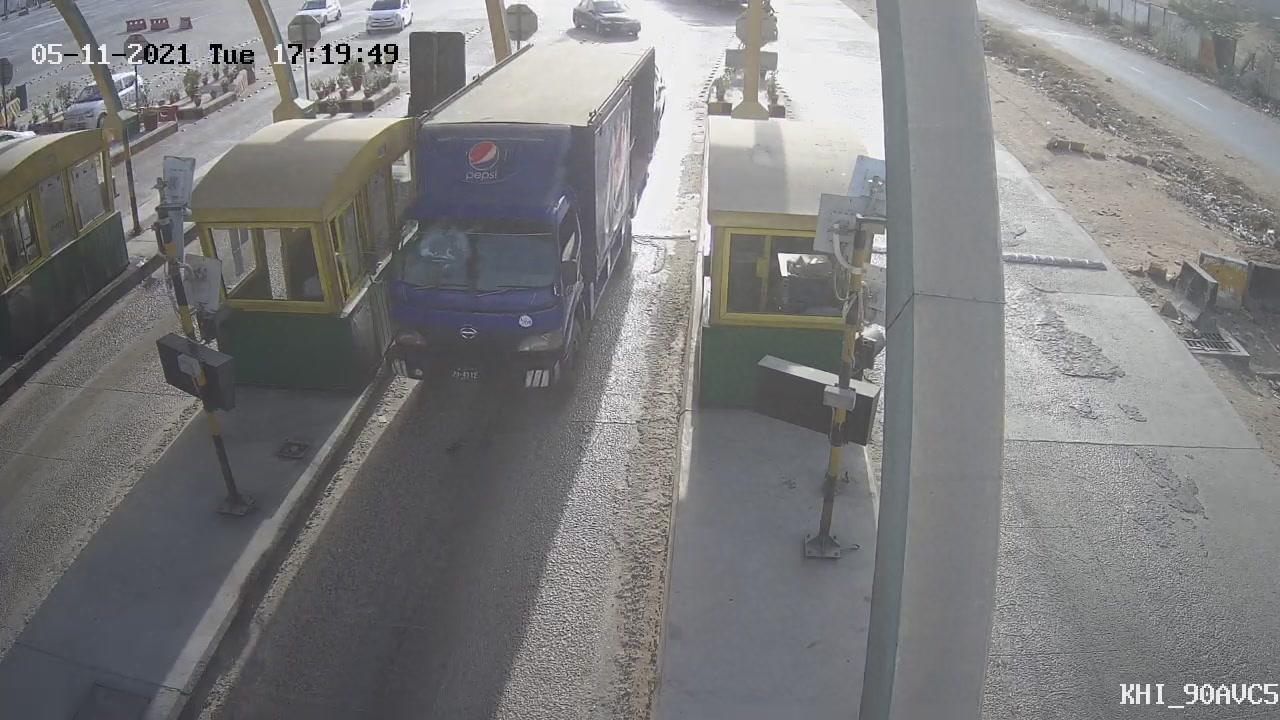F5: (346, 21, 689, 433)
